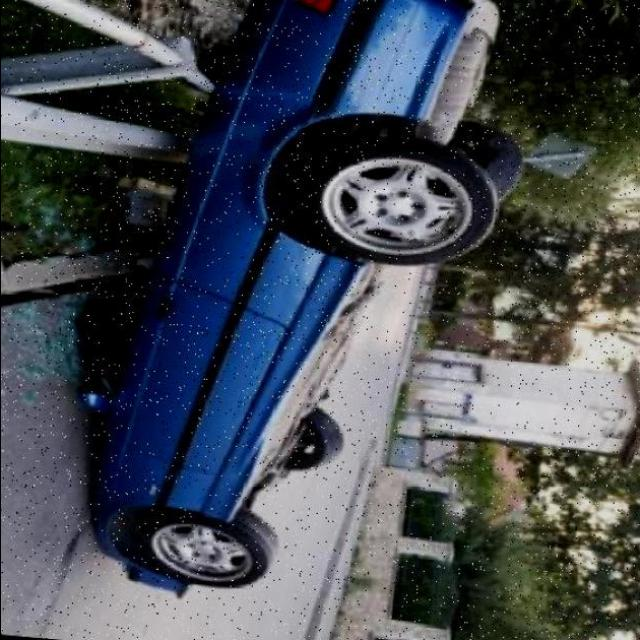accident: (62, 1, 534, 619)
